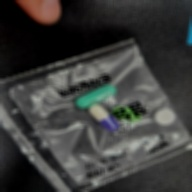러키펜정: (153, 109, 177, 126)
씨엠지세파클러캡슐: (87, 105, 121, 132)
에르도캡슐: (75, 85, 117, 109)
휴티렌정: (112, 107, 142, 122)
